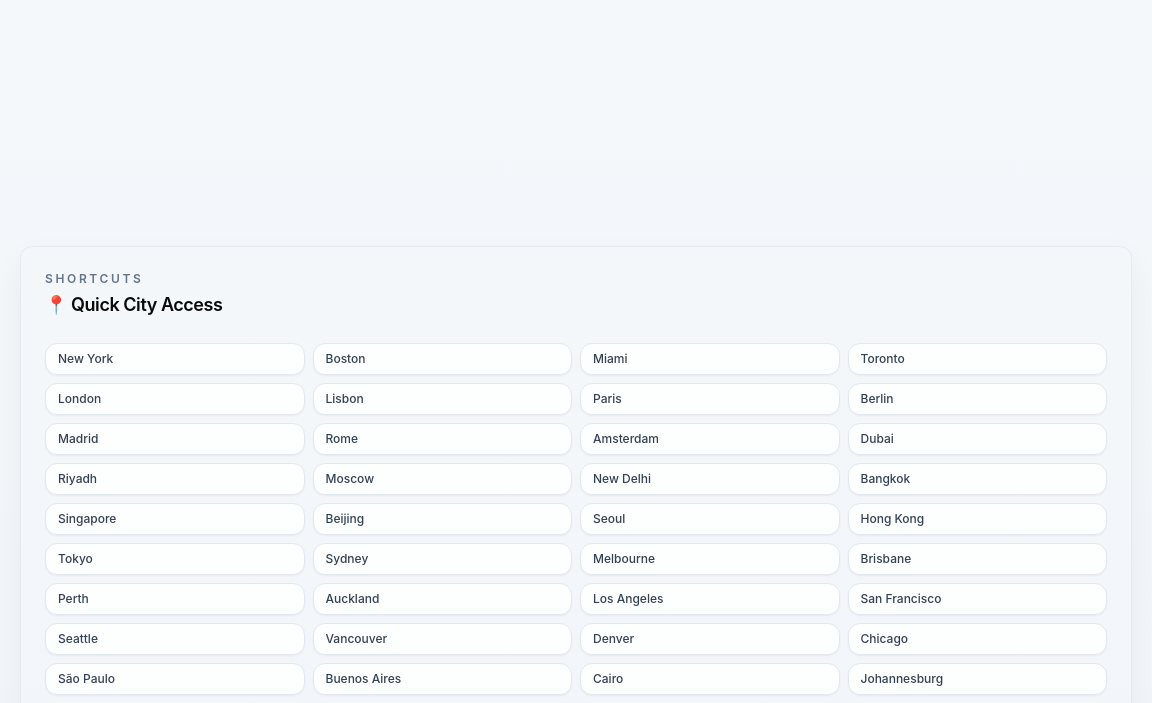
Test: TimezoneConverter Component - Hardcoded Data Version › quick city selection adds a separate city card for the same timezone offset
(page scrolled)
Click the button "Boston". click: point(442, 358)
box: top-left (312, 342), bottom-right (572, 374)
(page scrolled)
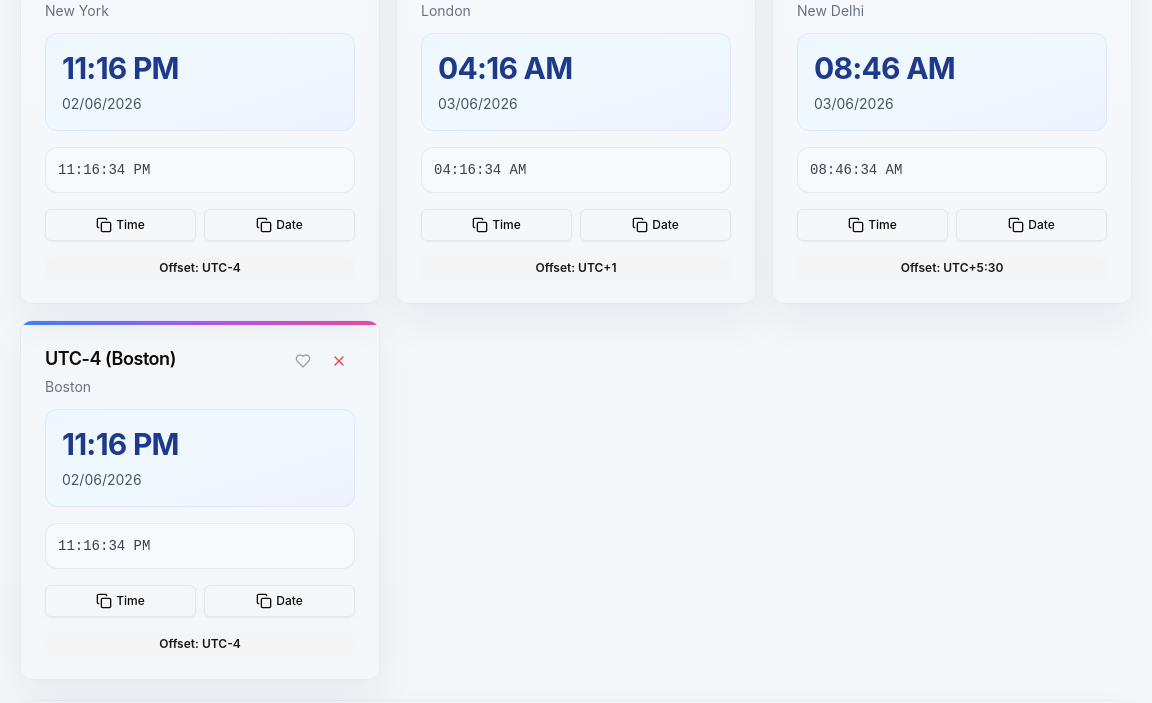
Check: the text "UTC-4 (Boston)" is shown, box top-left (45, 348), bottom-right (176, 368)
Check: the text "Offset: UTC-4" is shown 4 times, box top-left (45, 256), bottom-right (355, 278); top-left (421, 256), bottom-right (731, 278); top-left (797, 256), bottom-right (1107, 278); top-left (45, 632), bottom-right (355, 654)
